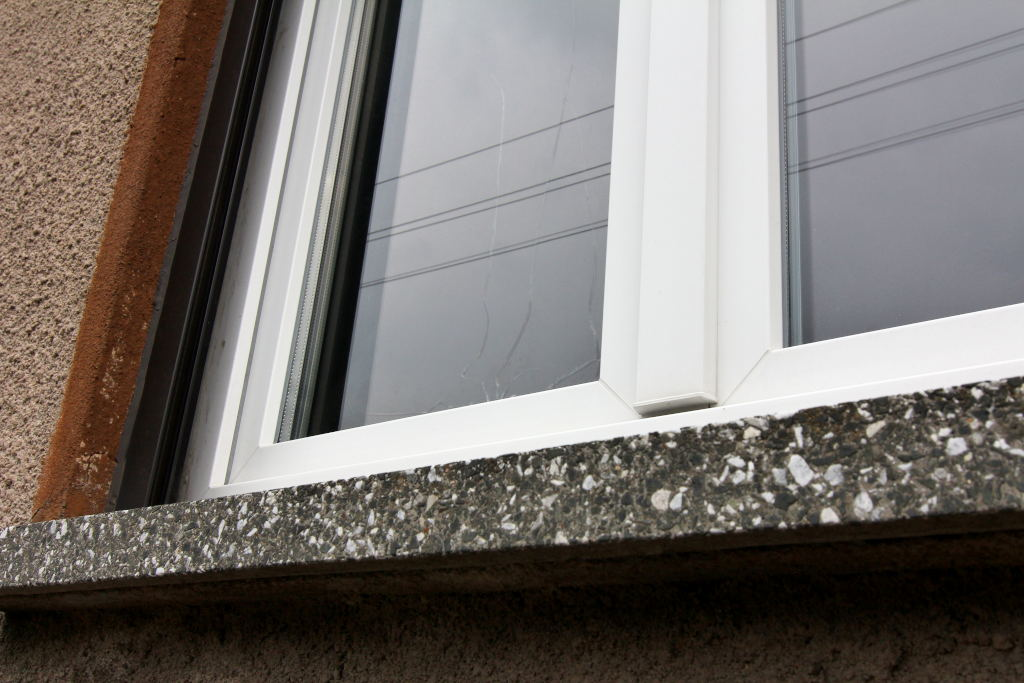windows: (202, 7, 1008, 402)
